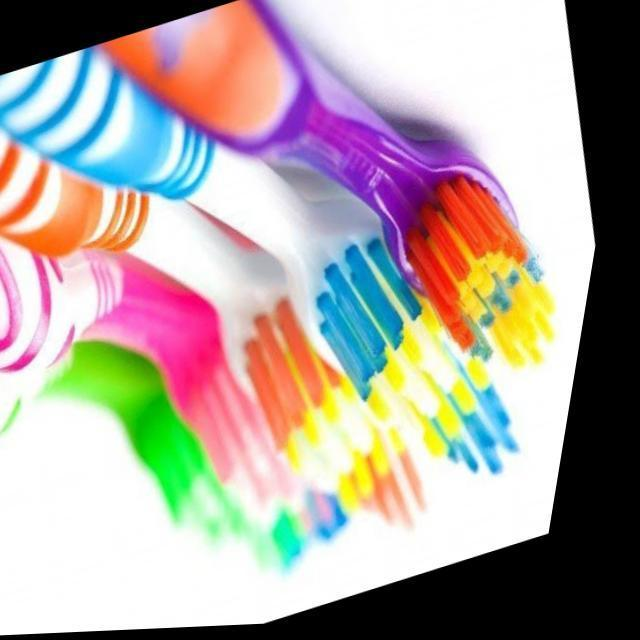toothbrush: (0, 0, 364, 34), (0, 1, 440, 16), (0, 0, 228, 22), (1, 0, 128, 2)
